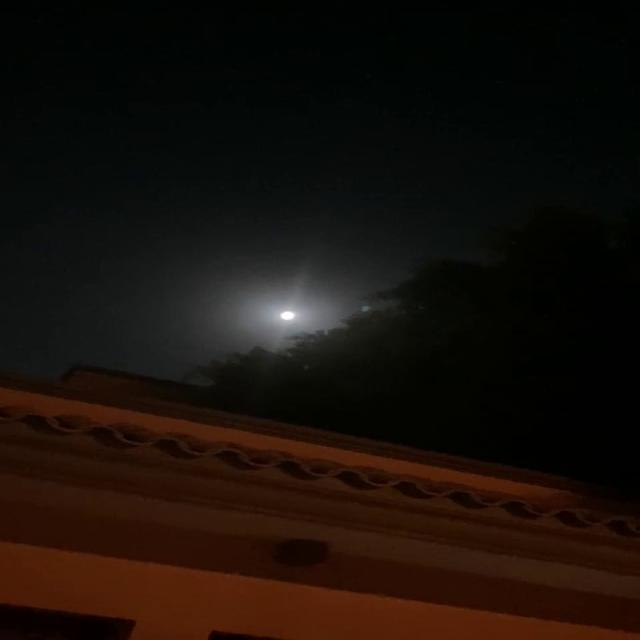moon: (257, 302, 296, 324)
